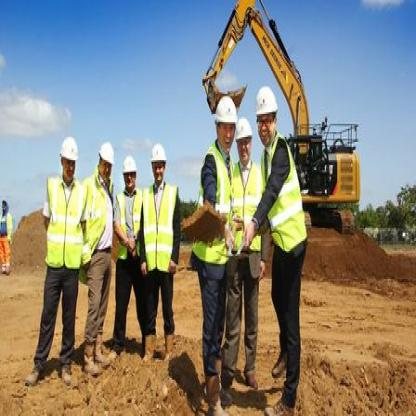person: (257, 87, 318, 414), (24, 136, 74, 392), (230, 102, 268, 414), (195, 73, 221, 414), (82, 121, 113, 390), (144, 127, 175, 355), (116, 139, 145, 373)
